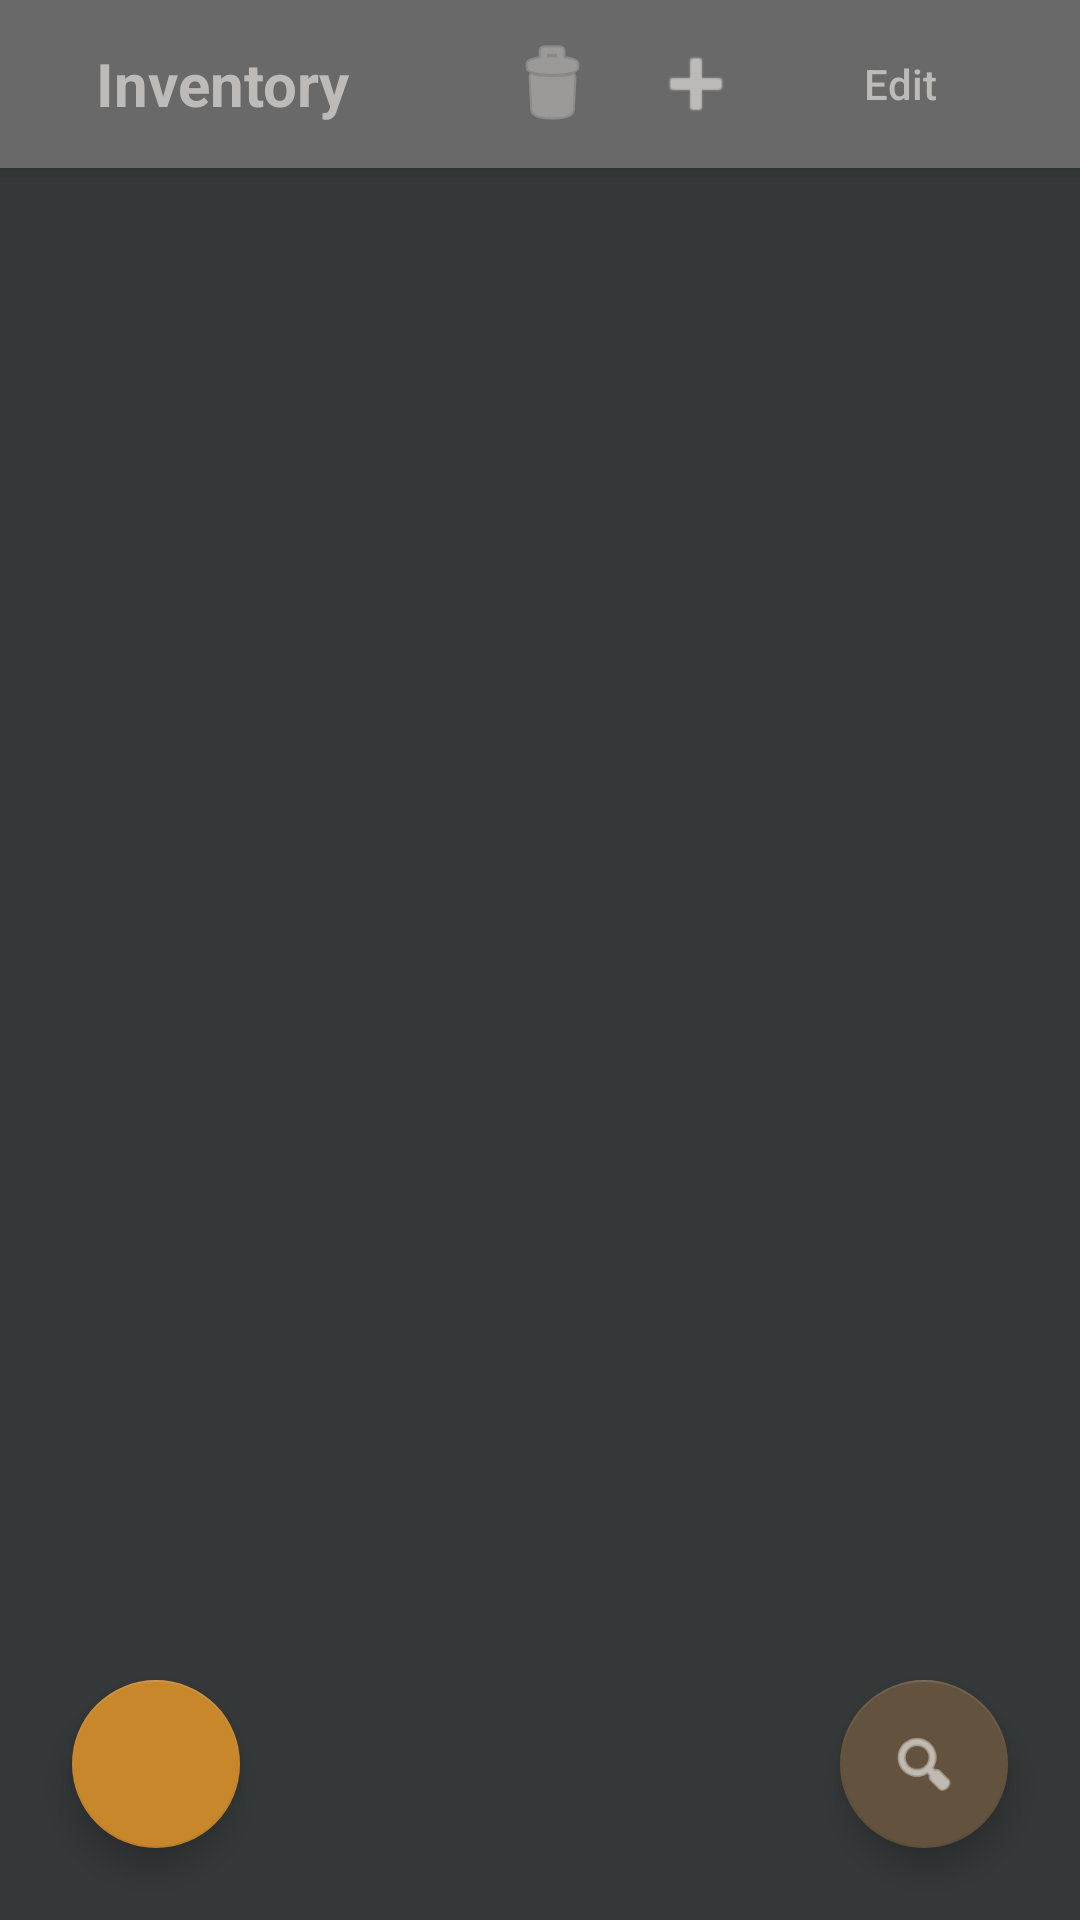

Named icons in this screenshot (1080px x 1920px) and their bounding boxes, (x1, y1, x2, y2):
Add New Ingredient: (669, 58, 723, 111)
Search: (840, 1680, 1008, 1848)
